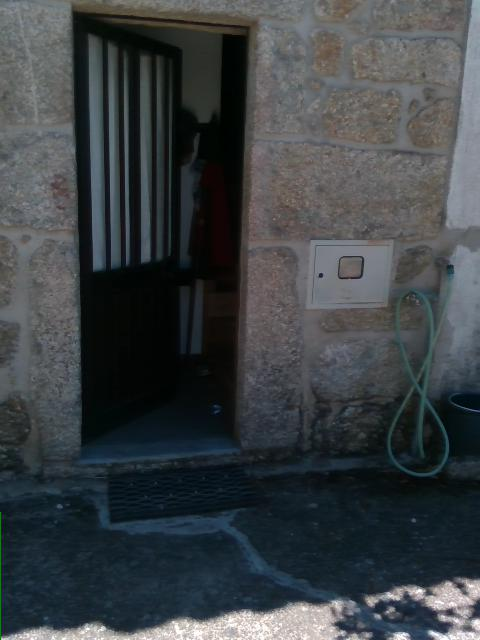semi_door: (72, 9, 250, 462)
